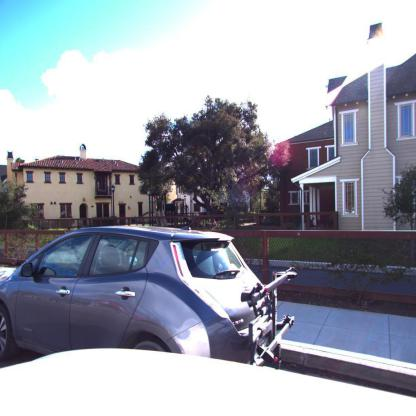car: (0, 226, 275, 372)
